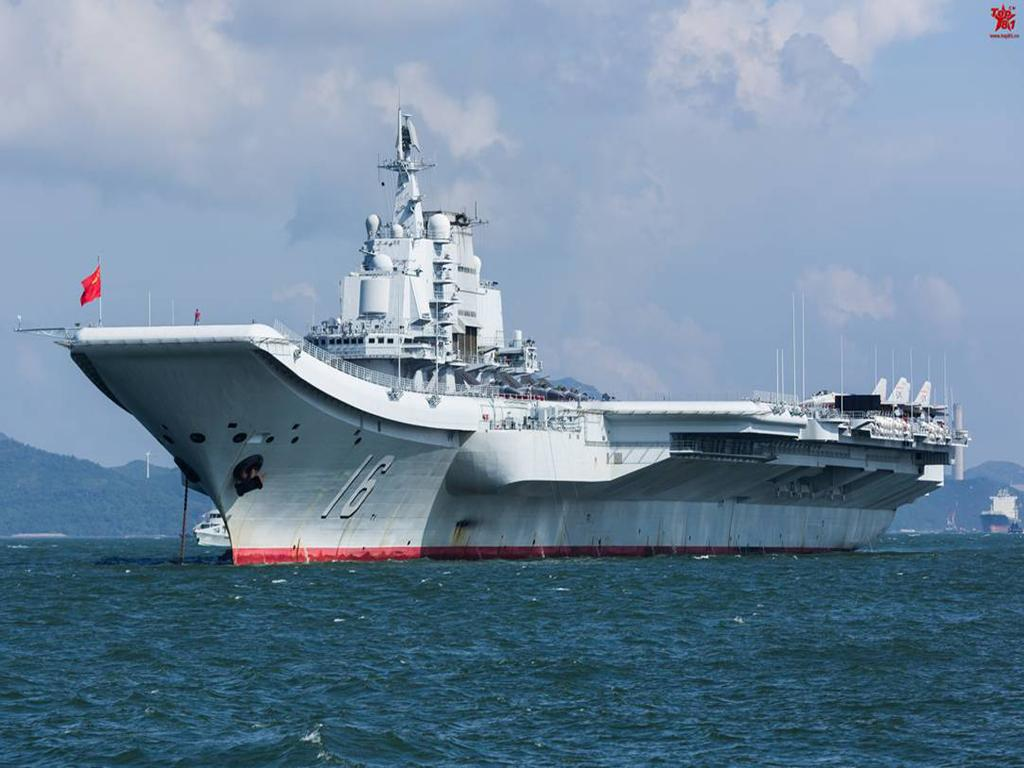Warship: (45, 101, 973, 564)
